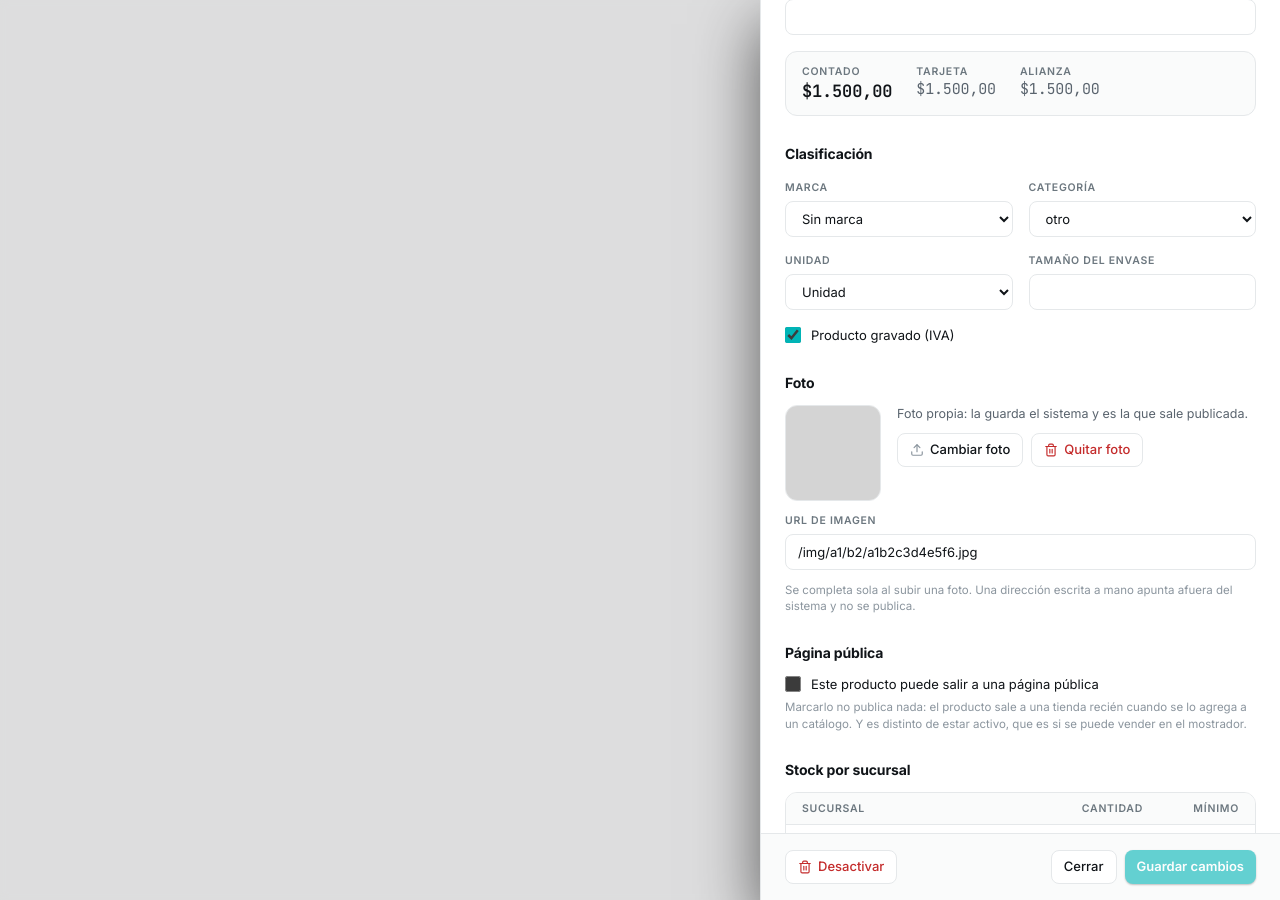
it: Quitar la foto › deja el panel sin miniatura y sin pedir guardar de nuevo
(page scrolled)
Click the button "Quitar foto": (1087, 450) [1031,432,1143,466]
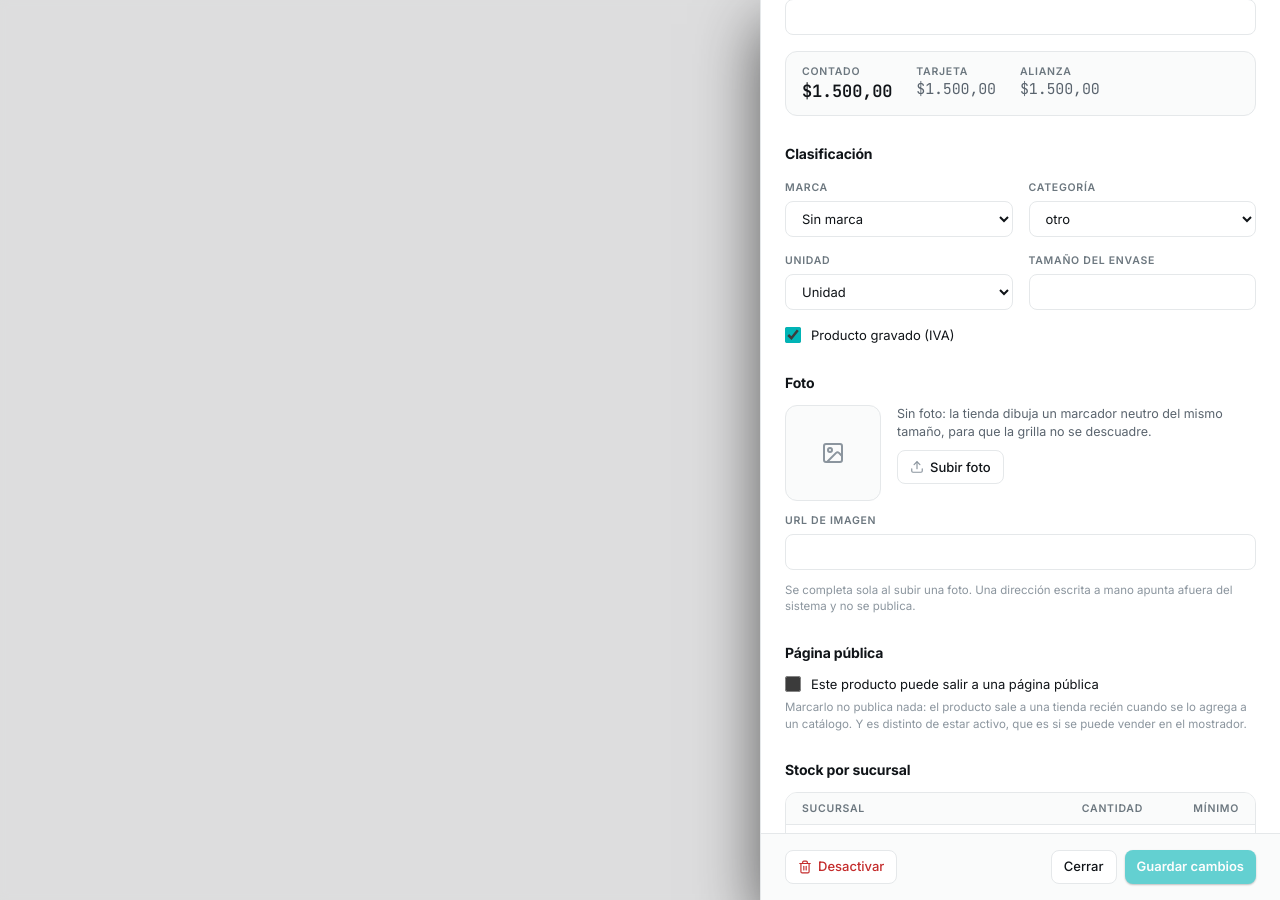
Expected: the button "Guardar cambios" is disabled, [1124,850,1256,884]
Expected: the picture is gone
Expected: the button "Subir foto" is shown, [897,450,1004,484]
